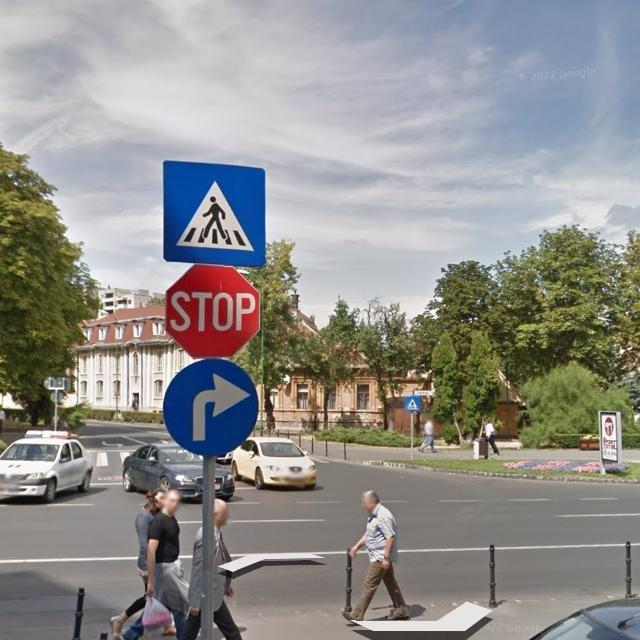info_crosswalk: (162, 160, 266, 267)
prio_stop: (159, 262, 260, 359)
